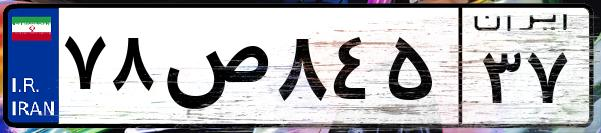3: (475, 38, 525, 113)
4: (330, 28, 385, 110)
5: (385, 28, 445, 110)
7: (57, 26, 110, 100), (525, 38, 570, 115)
8: (270, 28, 330, 110), (110, 28, 158, 98)
ص: (158, 20, 270, 120)
